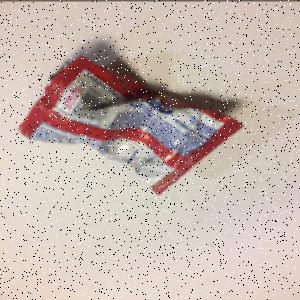Trash: (16, 55, 245, 197)
